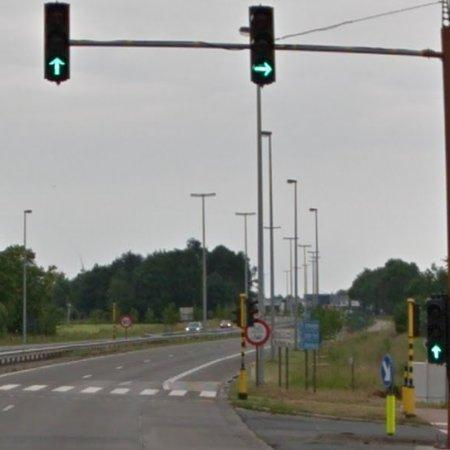traffic lights: (44, 2, 70, 84), (251, 6, 276, 85)
